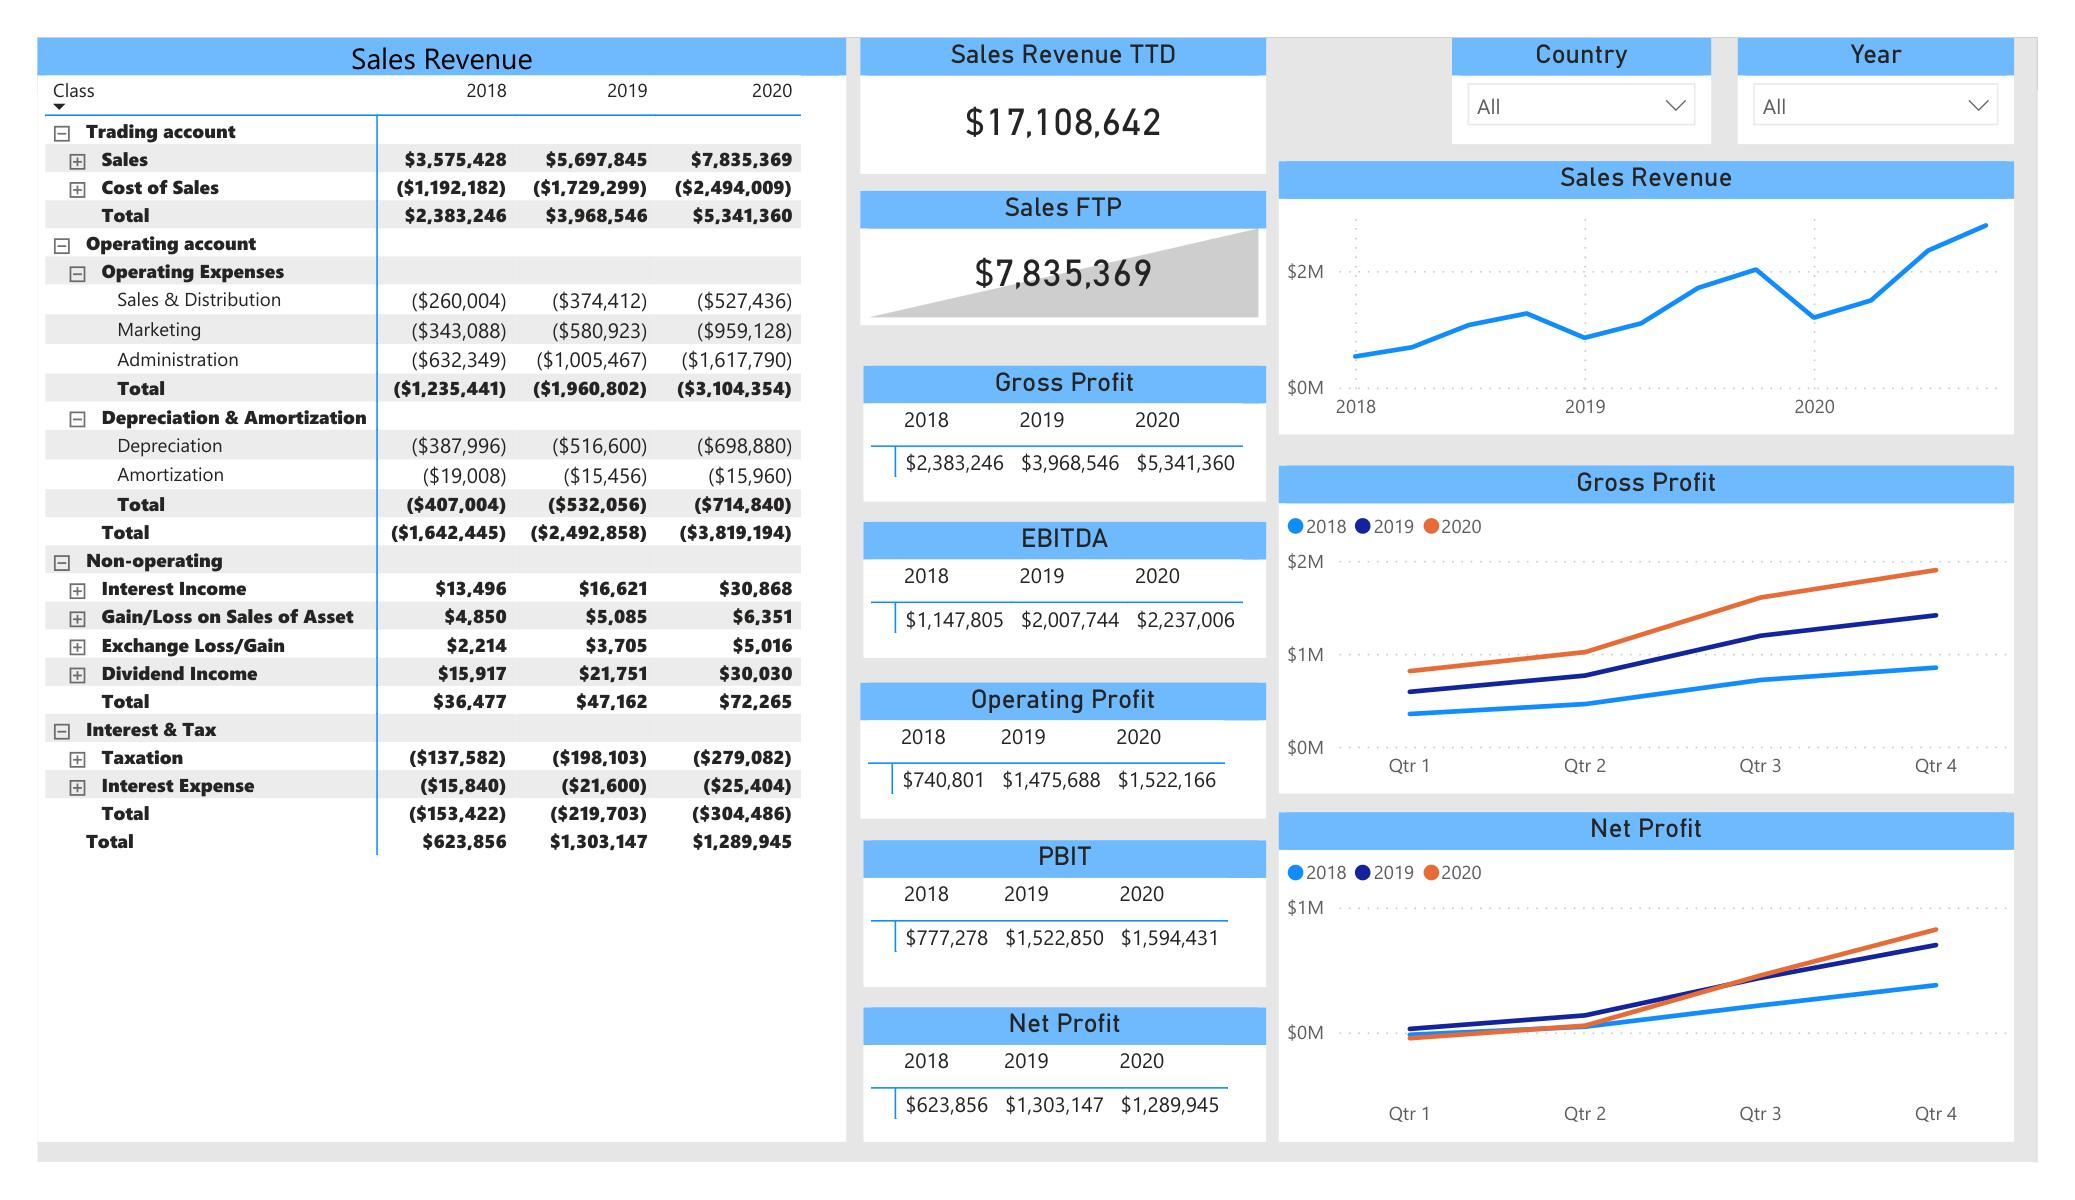

The dashboard page shown, as its layout file describes it:
{"tool":"powerbi","page":{"name":"P&L","canvas":[1280,720],"ordinal":1},"visuals":[{"type":"pivotTable","title":"Sales Revenue","fields":{"Values":["Sum(tbl_GL.Amount)"],"Rows":["tbl_ChartofAccounts.Class","tbl_ChartofAccounts.SubClass","tbl_ChartofAccounts.SubClass2"],"Columns":["tbl_Calendar.Date.Variation.Date Hierarchy.Year","tbl_Calendar.Date.Variation.Date Hierarchy.Quarter","tbl_Calendar.Date.Variation.Date Hierarchy.Month","tbl_Calendar.Date.Variation.Date Hierarchy.Day"]},"box":[0,0,518.3,707.2],"z":0},{"type":"slicer","title":"Country","fields":{"Values":["tbl_territory.Country"]},"box":[906.2,0,166.1,68.4],"z":1000},{"type":"pivotTable","title":"Gross Profit","fields":{"Columns":["tbl_Calendar.Date.Variation.Date Hierarchy.Year","tbl_Calendar.Date.Variation.Date Hierarchy.Quarter","tbl_Calendar.Date.Variation.Date Hierarchy.Month","tbl_Calendar.Date.Variation.Date Hierarchy.Day"],"Values":["tbl_GL.Gross_Profit"]},"box":[529.3,209.9,257.3,86.7],"z":2000},{"type":"pivotTable","title":"Operating Profit","fields":{"Values":["tbl_GL.Operating_Profit"],"Columns":["tbl_Calendar.Date.Variation.Date Hierarchy.Year","tbl_Calendar.Date.Variation.Date Hierarchy.Quarter","tbl_Calendar.Date.Variation.Date Hierarchy.Month","tbl_Calendar.Date.Variation.Date Hierarchy.Day"]},"box":[526.5,413.4,260.1,86.7],"z":3000},{"type":"pivotTable","title":"PBIT","fields":{"Values":["tbl_GL.PBIT"],"Columns":["tbl_Calendar.Date.Variation.Date Hierarchy.Year","tbl_Calendar.Date.Variation.Date Hierarchy.Quarter","tbl_Calendar.Date.Variation.Date Hierarchy.Month","tbl_Calendar.Date.Variation.Date Hierarchy.Day"]},"box":[529.3,513.8,257.3,94],"z":4000},{"type":"pivotTable","title":"Net Profit","fields":{"Values":["tbl_GL.Net_Profit"],"Columns":["tbl_Calendar.Date.Variation.Date Hierarchy.Year","tbl_Calendar.Date.Variation.Date Hierarchy.Quarter","tbl_Calendar.Date.Variation.Date Hierarchy.Month","tbl_Calendar.Date.Variation.Date Hierarchy.Day"]},"box":[529.3,620.5,257.3,86.7],"z":5000},{"type":"pivotTable","title":"EBITDA","fields":{"Values":["tbl_GL.EBITDA"],"Columns":["tbl_Calendar.Date.Variation.Date Hierarchy.Year","tbl_Calendar.Date.Variation.Date Hierarchy.Quarter","tbl_Calendar.Date.Variation.Date Hierarchy.Month","tbl_Calendar.Date.Variation.Date Hierarchy.Day"]},"box":[529.3,310.3,257.3,86.7],"z":6000},{"type":"card","title":"Sales Revenue TTD","fields":{"Values":["tbl_GL.Total_FTP"]},"box":[526.5,0,260.1,86.7],"z":7000},{"type":"kpi","title":"Sales FTP","fields":{"Indicator":["tbl_GL.Total_FTP"],"TrendLine":["tbl_Calendar.Date.Variation.Date Hierarchy.Year"]},"box":[526.5,97.6,260.1,86.7],"z":8000},{"type":"slicer","title":"Year","fields":{"Values":["tbl_Calendar.Year"]},"box":[1088.7,0,177,68.4],"z":9000},{"type":"lineChart","title":"Sales Revenue","fields":{"Category":["tbl_Calendar.Date.Variation.Date Hierarchy.Year","tbl_Calendar.Date.Variation.Date Hierarchy.Quarter","tbl_Calendar.Date.Variation.Date Hierarchy.Month","tbl_Calendar.Date.Variation.Date Hierarchy.Day"],"Y":["Sum(tbl_GL.Amount)"]},"box":[794.8,79.4,470.9,174.3],"z":10000},{"type":"lineChart","title":"Gross Profit","fields":{"Y":["Sum(tbl_GL.Amount)"],"Category":["tbl_Calendar.Date.Variation.Date Hierarchy.Quarter","tbl_Calendar.Date.Variation.Date Hierarchy.Month","tbl_Calendar.Date.Variation.Date Hierarchy.Day"],"Series":["tbl_Calendar.Date.Variation.Date Hierarchy.Year"]},"box":[794.8,273.8,470.9,209.9],"z":11000},{"type":"lineChart","title":"Net Profit","fields":{"Category":["tbl_Calendar.Date.Variation.Date Hierarchy.Quarter","tbl_Calendar.Date.Variation.Date Hierarchy.Month","tbl_Calendar.Date.Variation.Date Hierarchy.Day"],"Y":["Sum(tbl_GL.Amount)"],"Series":["tbl_Calendar.Date.Variation.Date Hierarchy.Year"]},"box":[794.8,495.5,470.9,211.7],"z":12000}]}

Visuals, with their boxes in screenshot pixels (x1, y1, x2, y2):
"Sales Revenue" pivotTable: 38,38,847,1142
"Country" slicer: 1453,38,1713,144
"Gross Profit" pivotTable: 865,365,1267,501
"Operating Profit" pivotTable: 860,683,1267,819
"PBIT" pivotTable: 865,840,1267,987
"Net Profit" pivotTable: 865,1007,1267,1142
"EBITDA" pivotTable: 865,522,1267,658
"Sales Revenue TTD" card: 860,38,1267,173
"Sales FTP" kpi: 860,190,1267,325
"Year" slicer: 1739,38,2015,144
"Sales Revenue" lineChart: 1279,162,2015,434
"Gross Profit" lineChart: 1279,465,2015,793
"Net Profit" lineChart: 1279,812,2015,1142
